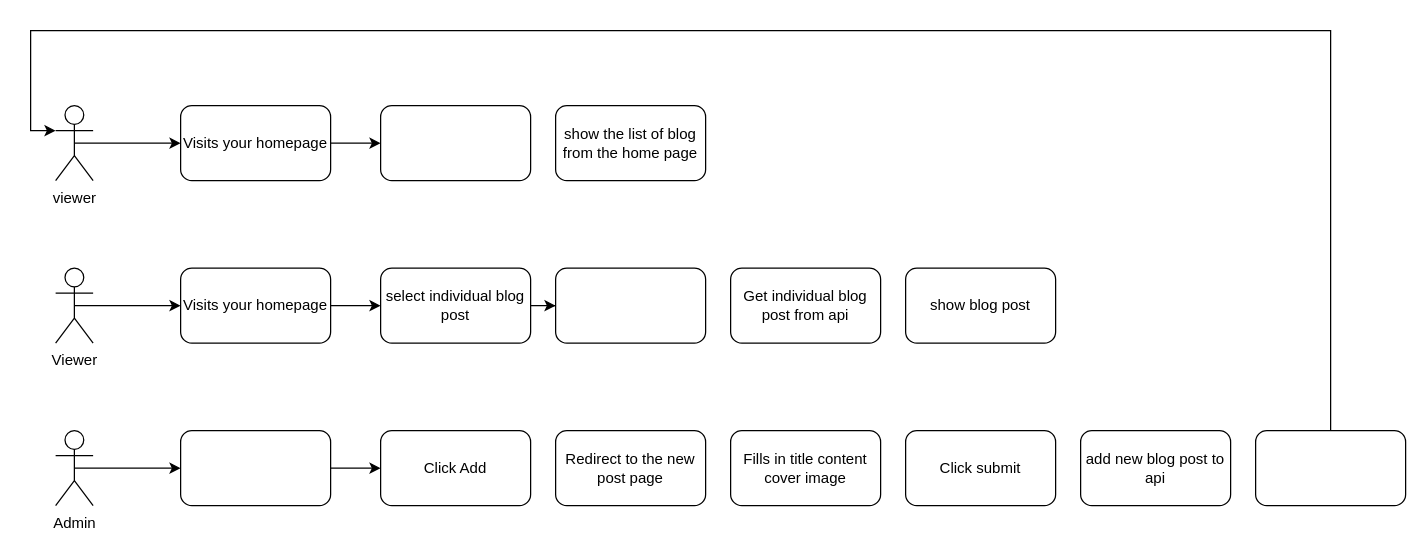
Some shapes in this 1428 by 554 pixel diagram are drawn without their labels. The box of each missing label's shape, as (x1, y1, x2, y2) in pixels:
Get a list of blog post s from an api: (379, 104, 531, 181)
Redirect to the home page: (1254, 429, 1406, 506)
Redirect to the post page: (554, 267, 706, 343)
Visits my homepage: (179, 429, 331, 506)
